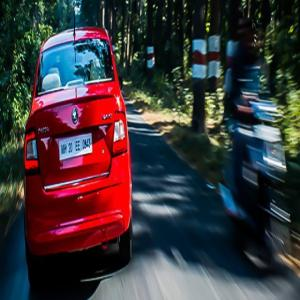Plate: (60, 133, 92, 159)
